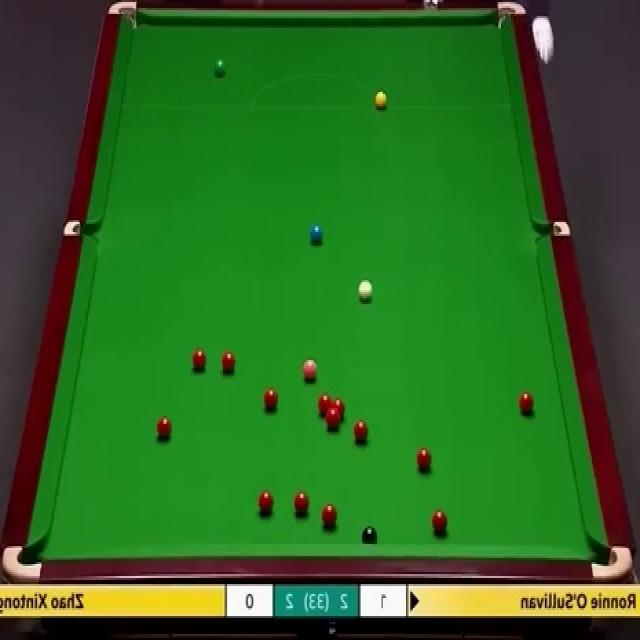black-ball: (362, 526, 378, 542)
blue-ball: (311, 223, 324, 244)
green-ball: (214, 56, 225, 75)
pink-ball: (302, 358, 320, 380)
red-ball: (155, 415, 173, 442), (415, 446, 433, 472), (352, 418, 370, 444), (293, 491, 310, 517), (431, 508, 448, 533), (325, 406, 340, 434), (322, 502, 338, 528), (317, 392, 334, 416), (192, 347, 208, 372), (518, 392, 535, 414), (264, 386, 278, 410), (258, 491, 274, 512), (220, 352, 236, 372), (331, 398, 344, 421)
white-ball: (358, 277, 373, 304)
yellow-ball: (374, 90, 390, 110)
